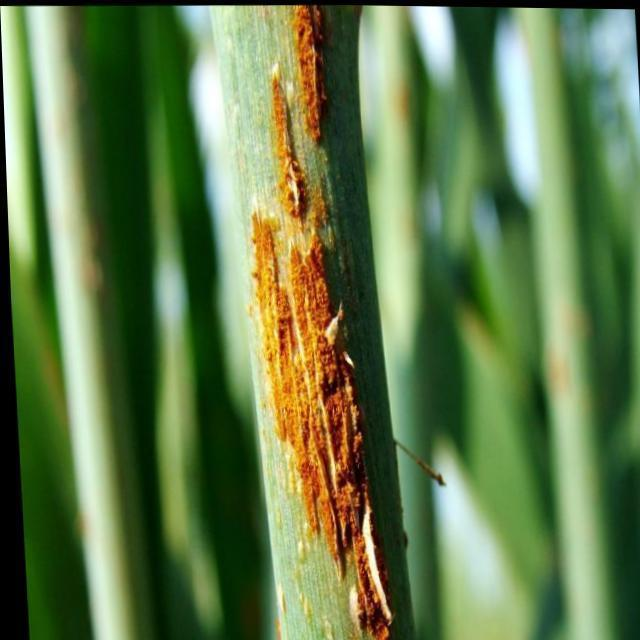Stem Rust: (205, 3, 408, 639)
